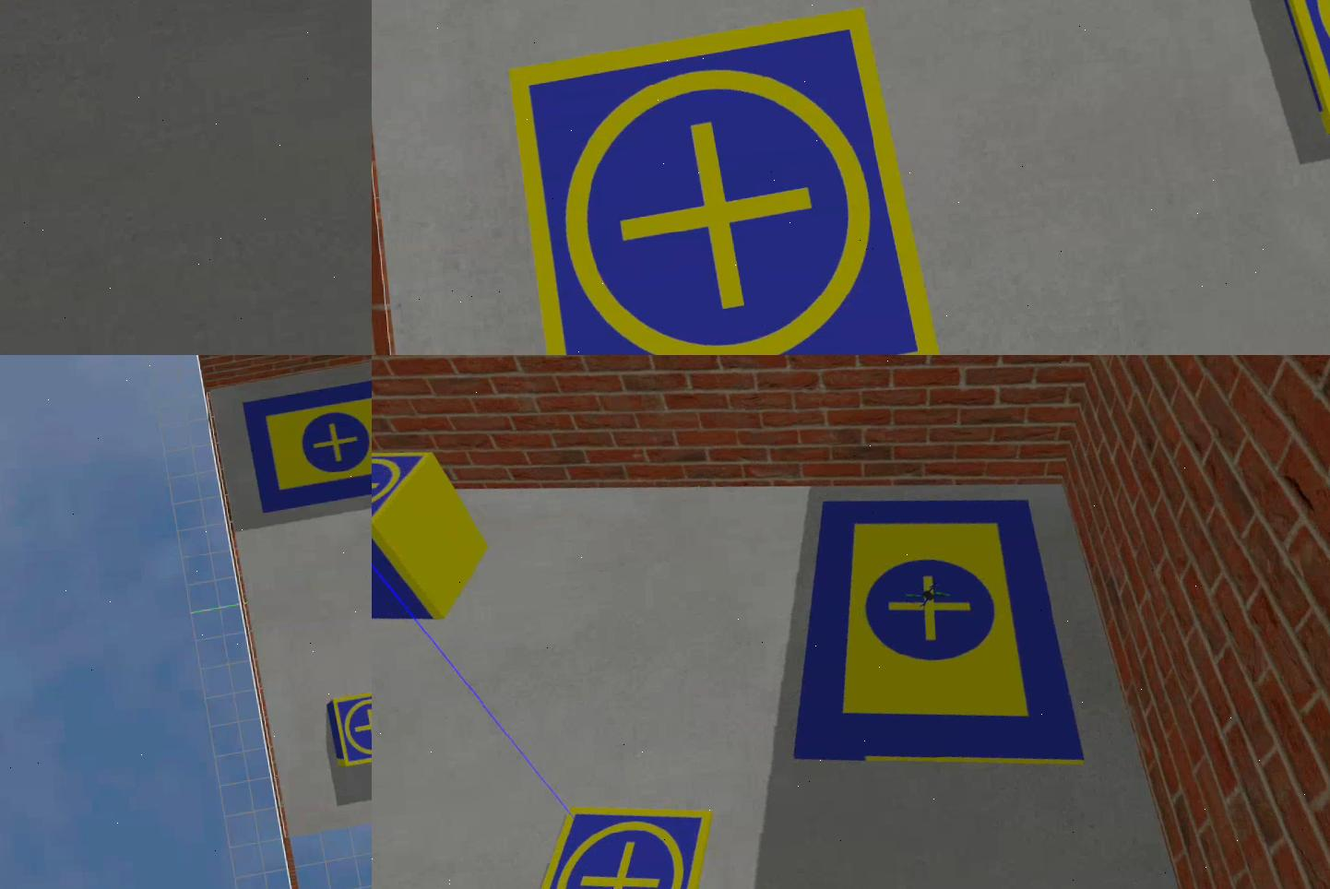large_base: (778, 478, 1092, 788), (241, 372, 373, 517)
small_base: (508, 8, 950, 356), (509, 798, 724, 889), (1257, 1, 1330, 142), (373, 443, 441, 543), (329, 685, 373, 771)
